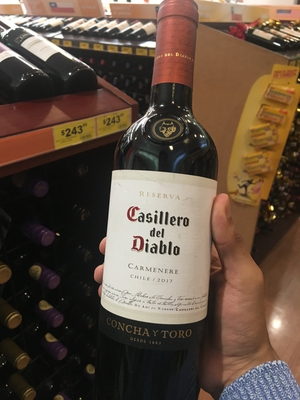casillero del diablo carmenere: (84, 25, 235, 400)
